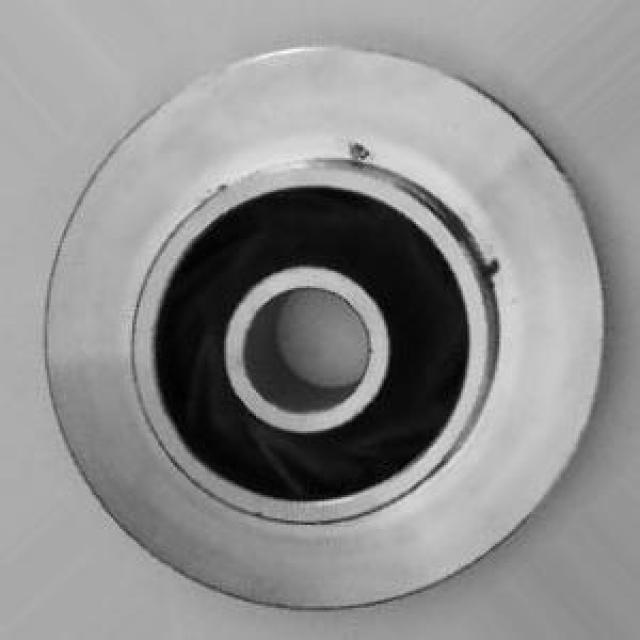Defect: (342, 134, 376, 169)
